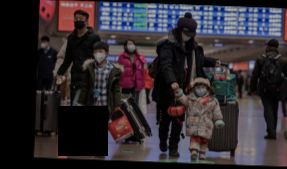with_mask: (92, 48, 106, 63), (72, 15, 85, 29), (180, 30, 192, 43), (194, 84, 207, 96), (126, 42, 135, 53), (39, 39, 48, 49)
